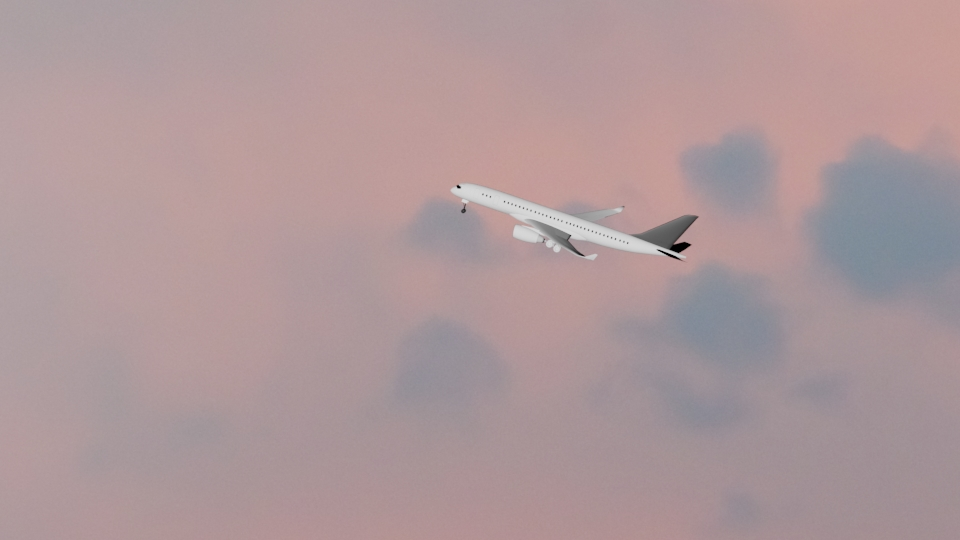plane: (448, 180, 699, 260)
